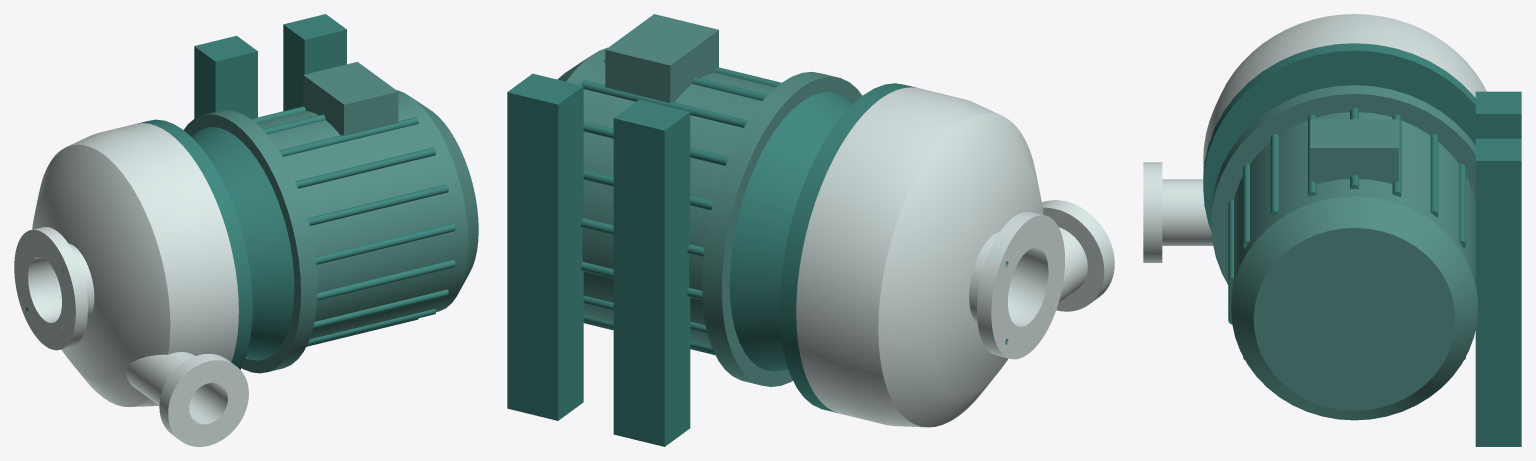
The picture shows the model from 3 angles, left to right: view 1: azimuth 30°, elevation 25°; view 2: azimuth 150°, elevation 25°; view 3: azimuth 270°, elevation 25°; orthographic projection. The views are drawn at different scales.
Parts seen in each view (by area): view 1: 泵体_圆弧壳与轴向进液口, 电机_带筋机壳, 连接座_短连接段, 支脚_电机底脚, 电机_连接法兰, 接口_朝上出液法兰, 电机_接线盒, 连接座_泵壳连接环, 接口_偏置竖向出液管, 电机_圆弧尾罩, 电机_散热筋04, 电机_散热筋05 (+5 smaller); view 2: 泵体_圆弧壳与轴向进液口, 支脚_电机底脚, 连接座_短连接段, 电机_带筋机壳, 电机_连接法兰, 电机_接线盒, 连接座_泵壳连接环, 接口_朝上出液法兰, 电机_散热筋18, 接口_偏置竖向出液管, 电机_散热筋17, 电机_散热筋01; view 3: 电机_圆弧尾罩, 支脚_电机底脚, 电机_带筋机壳, 连接座_泵壳连接环, 电机_连接法兰, 泵体_圆弧壳与轴向进液口, 电机_接线盒, 接口_偏置竖向出液管, 接口_朝上出液法兰, 电机_散热筋17, 电机_散热筋03, 电机_散热筋04 (+3 smaller).
Part boxes in pixels (x1,y1,x2,y2): 泵体_圆弧壳与轴向进液口: (14,123,238,406); 电机_带筋机壳: (256,90,468,339); 连接座_短连接段: (191,127,294,360); 支脚_电机底脚: (194,14,346,118); 电机_连接法兰: (184,110,317,373); 接口_朝上出液法兰: (159,353,248,446); 电机_接线盒: (303,62,398,136); 连接座_泵壳连接环: (137,119,252,369); 接口_偏置竖向出液管: (126,352,219,417); 电机_圆弧尾罩: (412,98,478,293); 电机_散热筋04: (308,184,448,225); 电机_散热筋05: (315,223,455,264); 泵体_圆弧壳与轴向进液口: (796,87,1064,427); 支脚_电机底脚: (507,73,690,446); 连接座_短连接段: (729,92,852,371); 电机_带筋机壳: (566,47,775,346); 电机_连接法兰: (702,71,862,386); 电机_接线盒: (605,14,718,102); 连接座_泵壳连接环: (779,83,916,412); 接口_朝上出液法兰: (1042,200,1114,311); 电机_散热筋18: (581,80,747,127); 接口_偏置竖向出液管: (1058,227,1087,302); 电机_散热筋17: (583,122,728,165); 电机_散热筋01: (604,58,767,100); 电机_圆弧尾罩: (1231,196,1478,420); 支脚_电机底脚: (1475,91,1521,446); 电机_带筋机壳: (1231,112,1478,307); 连接座_泵壳连接环: (1203,43,1475,231); 电机_连接法兰: (1211,85,1475,284); 泵体_圆弧壳与轴向进液口: (1203,14,1486,175); 电机_接线盒: (1310,119,1398,184); 接口_偏置竖向出液管: (1162,179,1213,245); 接口_朝上出液法兰: (1143,162,1162,262); 电机_散热筋17: (1430,134,1438,217); 电机_散热筋03: (1270,134,1278,217); 电机_散热筋04: (1243,164,1249,248).
Bounding box in the file's own units: 0.4598 × 0.3 × 0.36.
